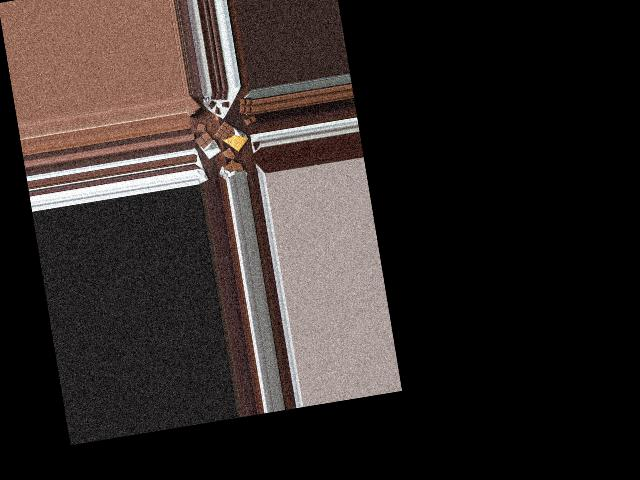chocolate: (192, 130, 222, 159)
